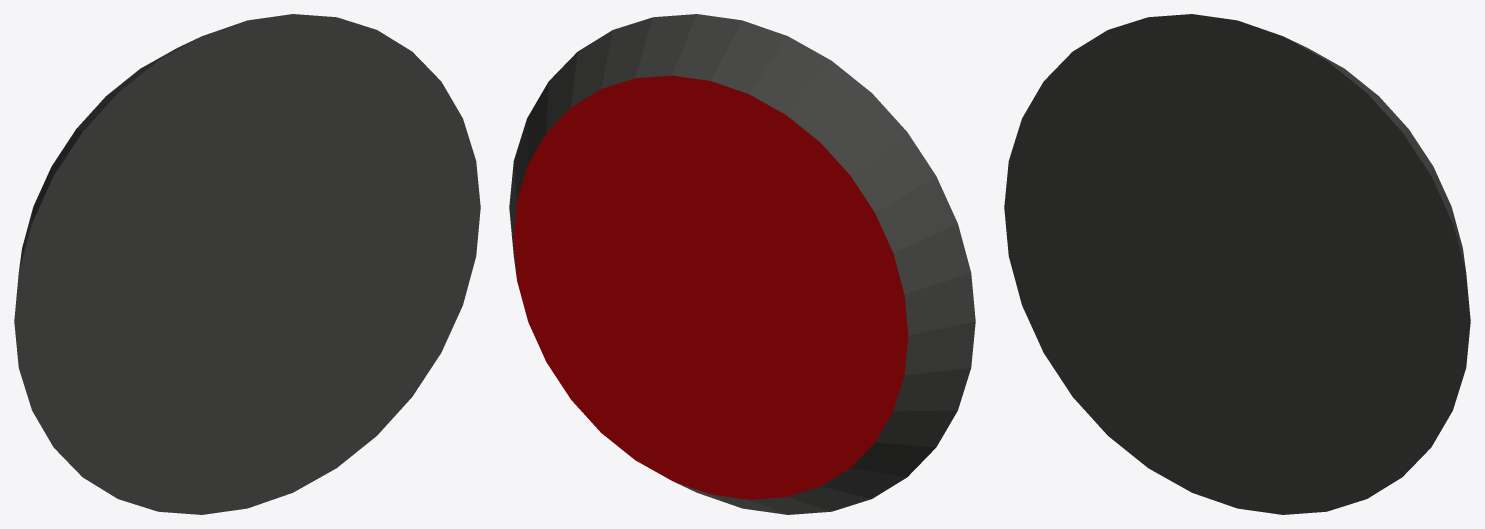
File: luzCircular.fbx
3 views of the same model, side by side, from view 1: azimuth 30°, elevation 25°; view 2: azimuth 150°, elevation 25°; view 3: azimuth 330°, elevation 25° (orthographic).
Parts seen in each view (by area): view 1: Circle; view 2: Circle; view 3: Circle.
Boxes of the visible parts, x1,y1,x2,y2 form: Circle: (14,14,480,514); Circle: (509,14,975,514); Circle: (1004,14,1470,514).
Bounding box in the file's own units: 26.81 × 26.81 × 3.16.
